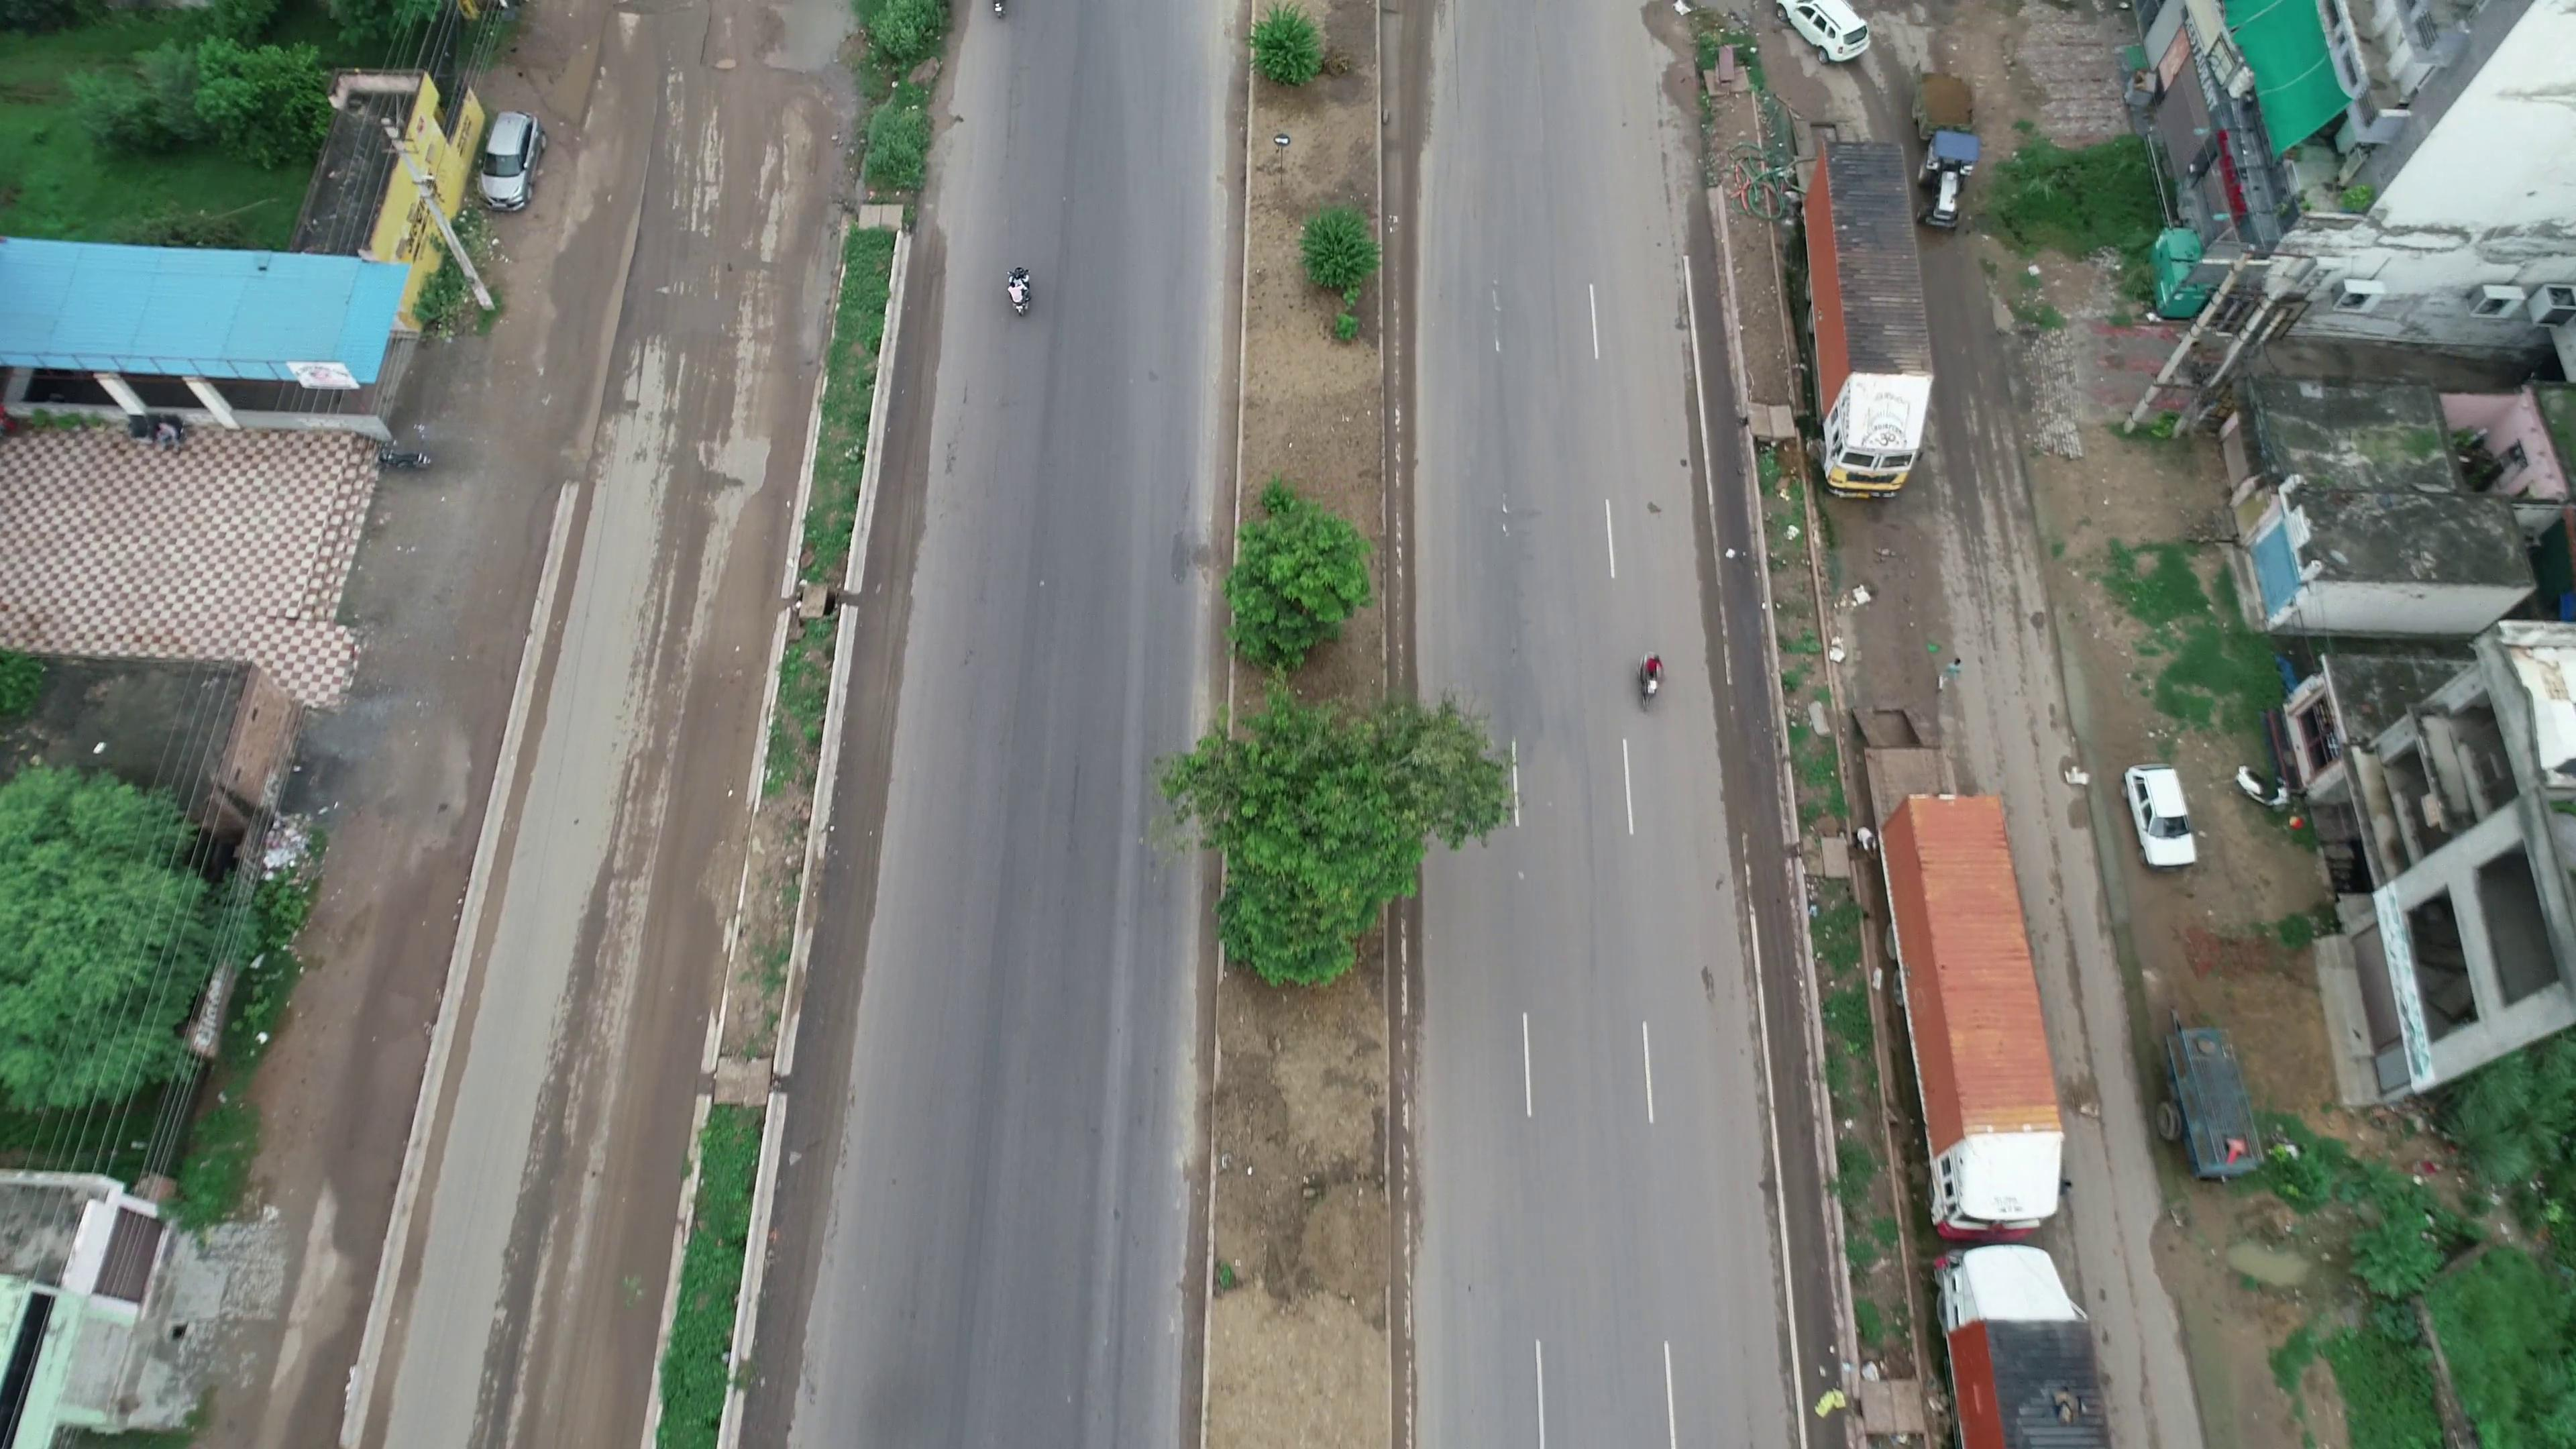Muddy_road: (626, 83, 833, 423), (529, 993, 694, 1392)
